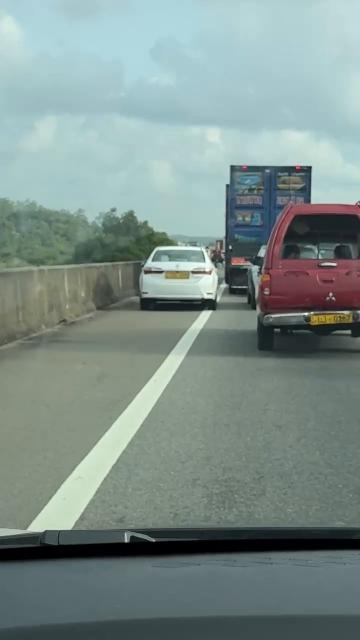illegal overtaking: (140, 245, 219, 310)
